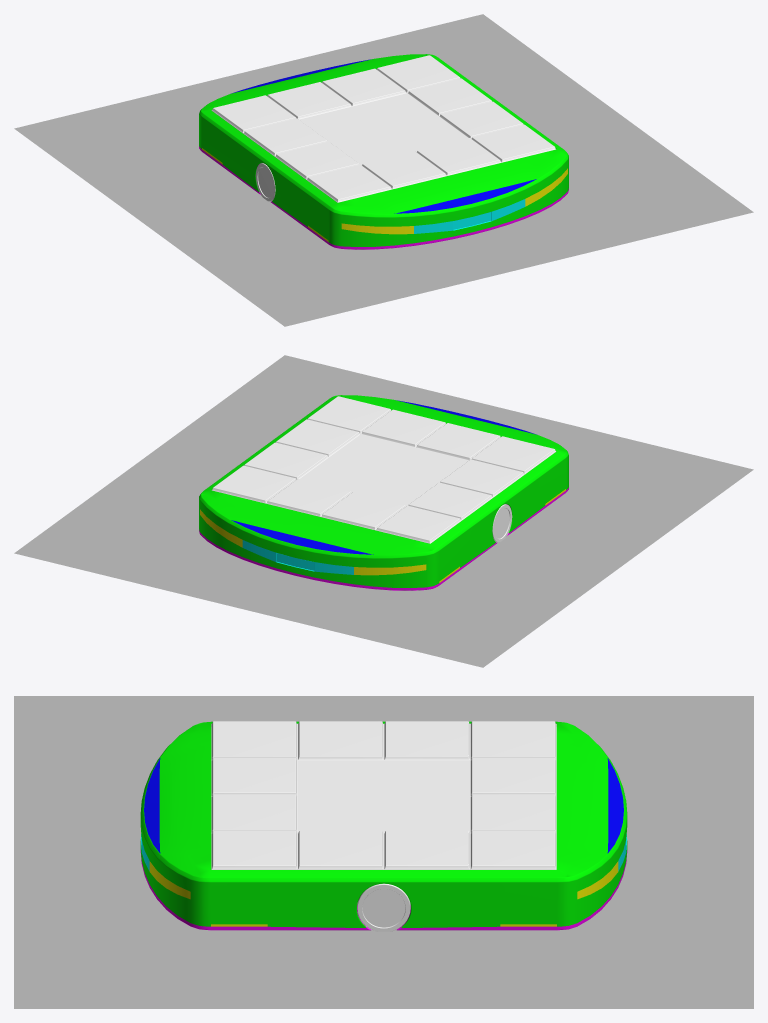
Rendered from Palletrobot.fbx.
3 views of the same model, one above another, from view 1: azimuth 30°, elevation 25°; view 2: azimuth 150°, elevation 25°; view 3: azimuth 270°, elevation 25° (orthographic). The views are drawn at different scales.
Parts seen in each view (by area): view 1: Palletrobot_shadow, Palletrobot_rubber, Palletrobot, Palletrobot_tire; view 2: Palletrobot_shadow, Palletrobot_rubber, Palletrobot, Palletrobot_tire; view 3: Palletrobot_shadow, Palletrobot_rubber, Palletrobot, Palletrobot_tire.
Part boxes in pixels (bbox=[...]): Palletrobot_shadow: bbox=[14, 14, 753, 326]; Palletrobot_rubber: bbox=[211, 55, 556, 202]; Palletrobot: bbox=[199, 54, 568, 249]; Palletrobot_tire: bbox=[255, 163, 275, 201]; Palletrobot_shadow: bbox=[14, 355, 753, 667]; Palletrobot_rubber: bbox=[211, 396, 556, 543]; Palletrobot: bbox=[199, 395, 568, 590]; Palletrobot_tire: bbox=[492, 504, 512, 542]; Palletrobot_shadow: bbox=[14, 696, 753, 1008]; Palletrobot_rubber: bbox=[211, 721, 556, 869]; Palletrobot: bbox=[140, 721, 627, 930]; Palletrobot_tire: bbox=[357, 883, 410, 931].
Bounding box in the file's own units: 150 × 13.49 × 150.
